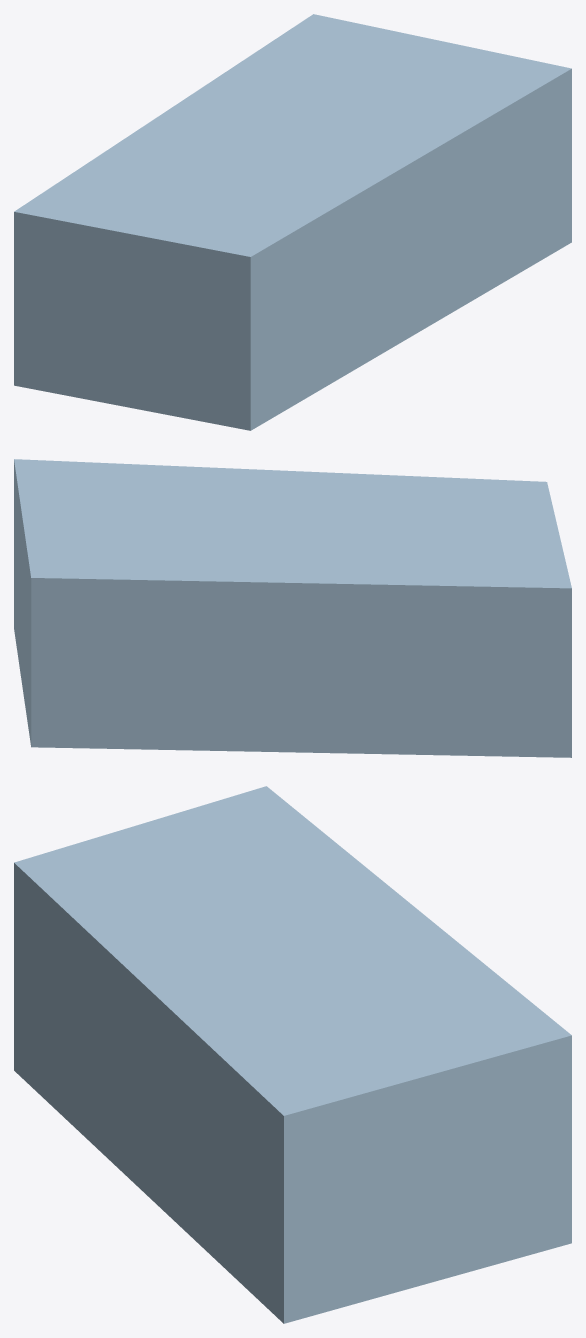
The model's file is njupt_k_dormitory_01.glb.
3 views of the same model, one above another, from view 1: azimuth 30°, elevation 25°; view 2: azimuth 150°, elevation 25°; view 3: azimuth 270°, elevation 25° (orthographic). The views are drawn at different scales.
Visible parts, largest first — view 1: njupt_k_dormitory_01; view 2: njupt_k_dormitory_01; view 3: njupt_k_dormitory_01.
Part boxes in pixels (x1,y1,x2,y2): njupt_k_dormitory_01: (14, 14, 571, 430); njupt_k_dormitory_01: (14, 459, 571, 757); njupt_k_dormitory_01: (14, 786, 571, 1323).
Bounding box in the file's own units: 61.58 × 18.1 × 44.02.
